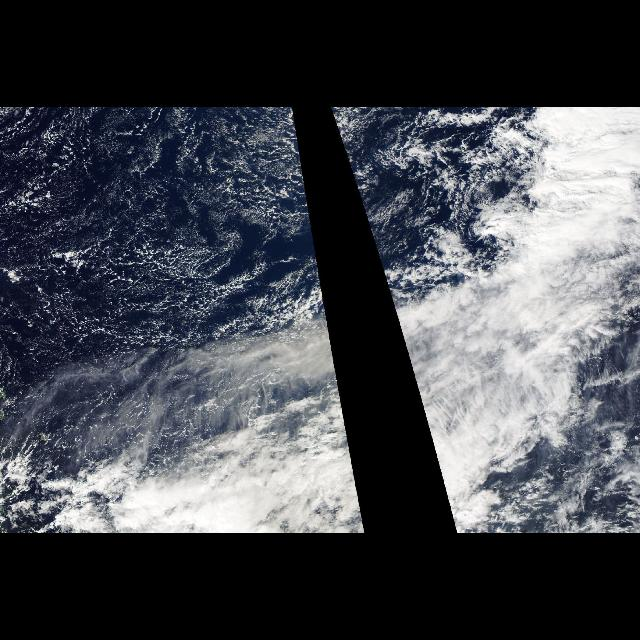Gravel: (1, 114, 322, 280), (332, 114, 478, 280)
Sugar: (1, 110, 329, 342)
